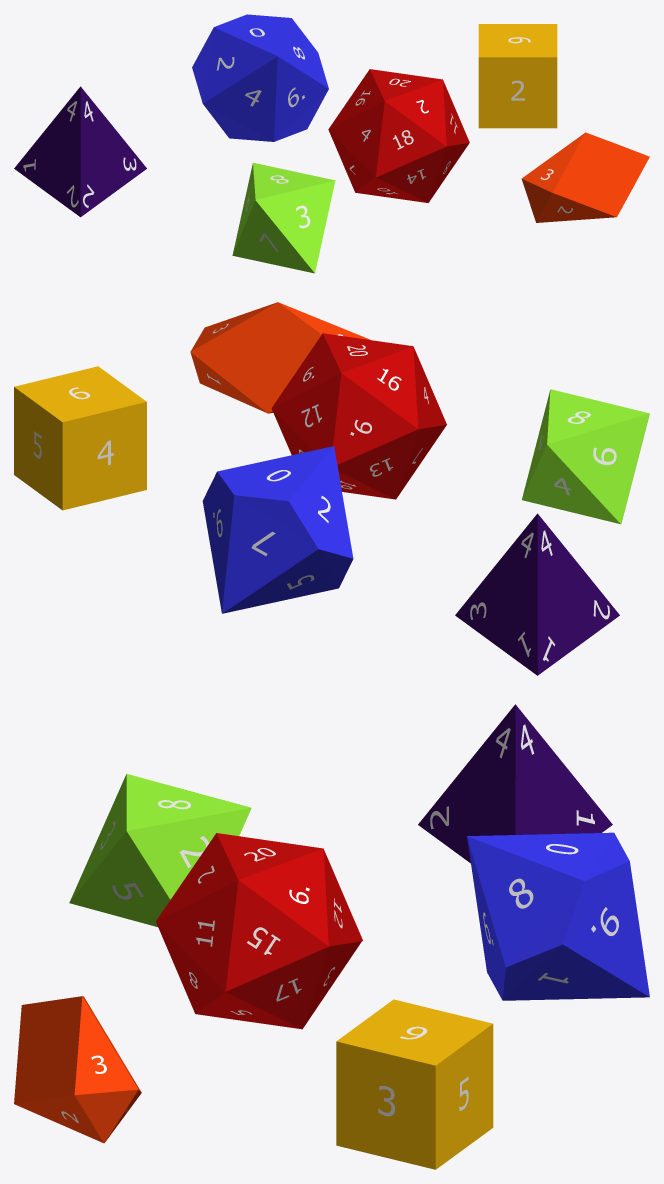
Rendered from dnd_dice_complete_set.dae.
The picture shows the model from 3 angles, top to bottom: view 1: azimuth 30°, elevation 25°; view 2: azimuth 150°, elevation 25°; view 3: azimuth 270°, elevation 25°; orthographic projection. The views are drawn at different scales.
Parts seen in each view (by area): view 1: group_35, group_34, group_2, group_1, group_30, group_31, group_7, group_22, group_8, group_20, group_23, group_25 (+4 smaller); view 2: group_35, group_34 (×2), group_2, group_1, group_31, group_32, group_9, group_23, group_26, group_27, group_24, group_25 (+4 smaller); view 3: group_35, group_34 (×2), group_2, group_1, group_30, group_32, group_18, group_19, group_24, group_17, group_8, group_25 (+4 smaller).
Boxes of the visible parts, x1,y1,x2,y2 form: group_35: (192,14,328,141); group_34: (478,24,557,128); group_2: (232,162,335,273); group_1: (521,132,649,222); group_30: (80,87,146,216); group_31: (14,86,80,216); group_7: (376,101,446,177); group_22: (328,101,384,176); group_8: (385,79,446,145); group_20: (376,146,446,202); group_23: (329,69,384,128); group_25: (370,69,442,100); group_35: (202,446,353,613); group_34 (×2): (14,366,146,510); group_2: (522,389,649,524); group_1: (190,302,369,413); group_31: (537,514,619,675); group_32: (455,513,537,675); group_9: (333,373,417,464); group_23: (342,346,418,428); group_26: (272,373,341,450); group_27: (337,429,417,499); group_24: (272,333,340,408); group_25: (323,333,412,372); group_35: (467,832,649,1000); group_34 (×2): (336,999,493,1169); group_2: (69,774,251,926); group_1: (14,996,141,1143); group_30: (418,705,515,863); group_32: (515,704,612,834); group_18: (225,880,328,991); group_19: (156,880,238,991); group_24: (239,848,328,945); group_17: (226,947,328,1029); group_8: (156,833,238,920); group_25: (216,833,323,879).
Size of the model in its own units: 5.54 by 4.31 by 1.21.
